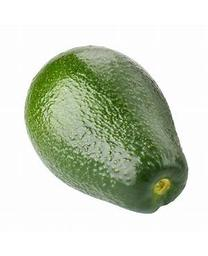avocado: (25, 47, 189, 214)
